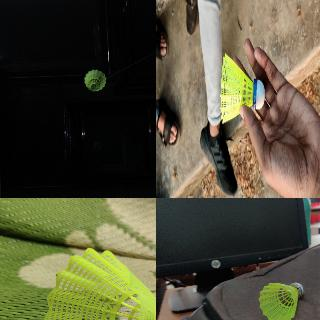shuttlecock: (44, 246, 155, 319), (220, 52, 264, 120), (259, 282, 304, 319), (84, 69, 106, 91)
